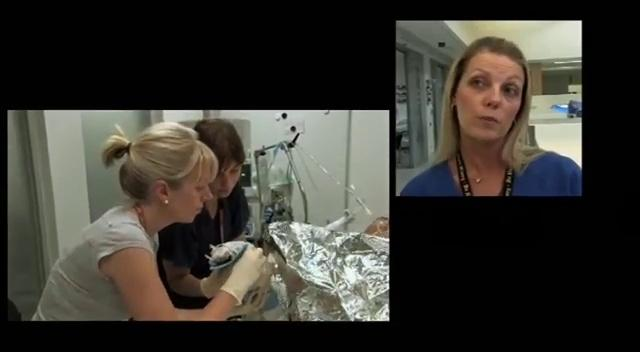nurse: (398, 35, 582, 197)
others: (30, 119, 267, 321), (157, 117, 253, 304)
